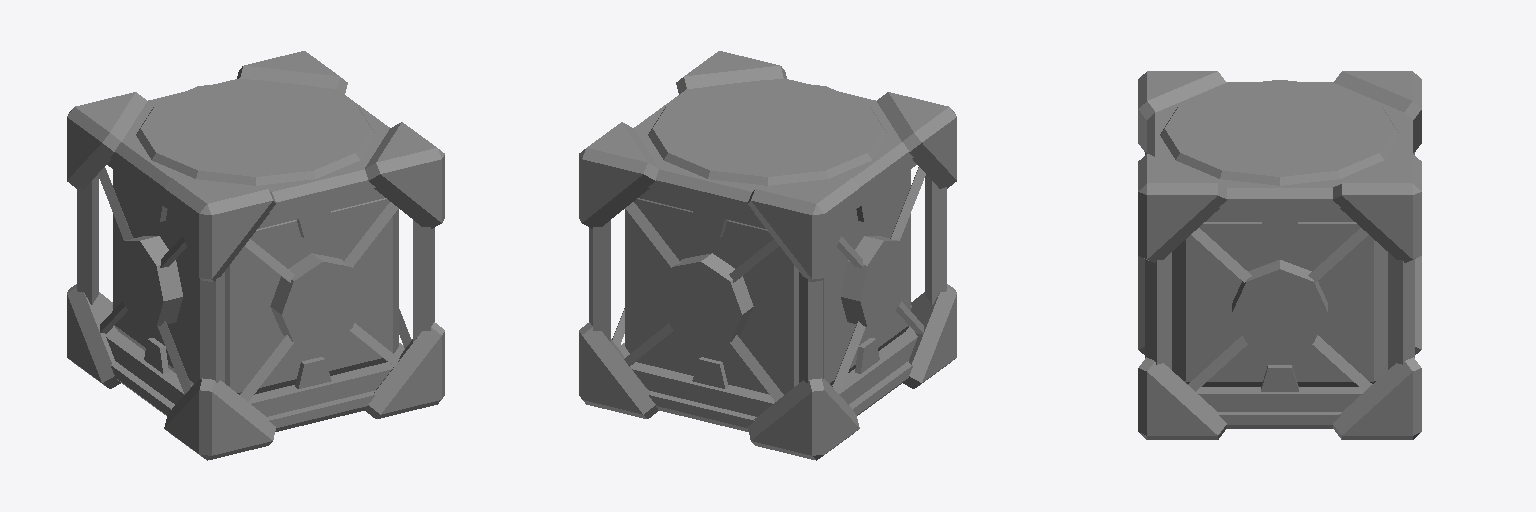
File: cpz_obj_breakbox_000.obj
The picture shows the model from 3 angles: view 1: azimuth 30°, elevation 25°; view 2: azimuth 150°, elevation 25°; view 3: azimuth 270°, elevation 25°; orthographic projection.
Parts seen in each view (by area): view 1: cpz_metal_yy_slop_cmn_dpn, ccp_metal_yy_circle_Cmn_dpn, ccp_water_yy_grass_FallOffV_dn, cpz_yy1_road_cmn_dp, cpz_metal_st1_tank01_cmn_dpnE, ccp_metal_yy_yelow_Cmn_dpn; view 2: cpz_metal_yy_slop_cmn_dpn, ccp_metal_yy_circle_Cmn_dpn, ccp_water_yy_grass_FallOffV_dn, cpz_yy1_road_cmn_dp, cpz_metal_st1_tank01_cmn_dpnE, ccp_metal_yy_yelow_Cmn_dpn; view 3: cpz_metal_yy_slop_cmn_dpn, ccp_water_yy_grass_FallOffV_dn, ccp_metal_yy_circle_Cmn_dpn, cpz_yy1_road_cmn_dp, ccp_metal_yy_yelow_Cmn_dpn, cpz_metal_st1_tank01_cmn_dpnE.
Boxes of the visible parts, box(x1,y1,x2,y2) form: cpz_metal_yy_slop_cmn_dpn: box(67, 51, 444, 460); ccp_metal_yy_circle_Cmn_dpn: box(116, 80, 370, 347); ccp_water_yy_grass_FallOffV_dn: box(113, 170, 398, 394); cpz_yy1_road_cmn_dp: box(77, 107, 434, 401); cpz_metal_st1_tank01_cmn_dpnE: box(77, 193, 434, 388); ccp_metal_yy_yelow_Cmn_dpn: box(106, 159, 404, 416); cpz_metal_yy_slop_cmn_dpn: box(579, 51, 956, 460); ccp_metal_yy_circle_Cmn_dpn: box(653, 80, 907, 347); ccp_water_yy_grass_FallOffV_dn: box(625, 170, 910, 394); cpz_yy1_road_cmn_dp: box(589, 107, 946, 401); cpz_metal_st1_tank01_cmn_dpnE: box(589, 193, 946, 388); ccp_metal_yy_yelow_Cmn_dpn: box(619, 159, 917, 416); cpz_metal_yy_slop_cmn_dpn: box(1138, 71, 1421, 439); ccp_water_yy_grass_FallOffV_dn: box(1172, 222, 1387, 386); ccp_metal_yy_circle_Cmn_dpn: box(1165, 80, 1394, 355); cpz_yy1_road_cmn_dp: box(1145, 107, 1414, 391); ccp_metal_yy_yelow_Cmn_dpn: box(1196, 208, 1363, 411); cpz_metal_st1_tank01_cmn_dpnE: box(1145, 222, 1414, 391).
Size of the model in its own units: 71.99 by 72.07 by 71.91.